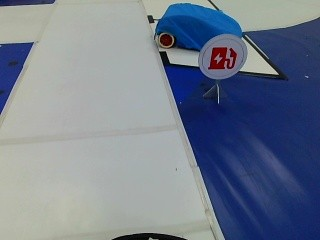battery: (205, 37, 245, 74)
car: (151, 4, 245, 50)
